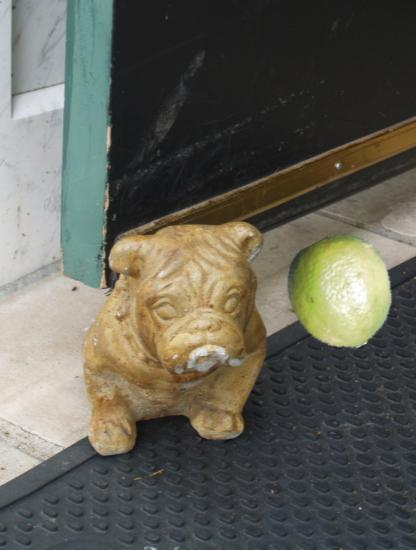Limes: (285, 236, 399, 350)
